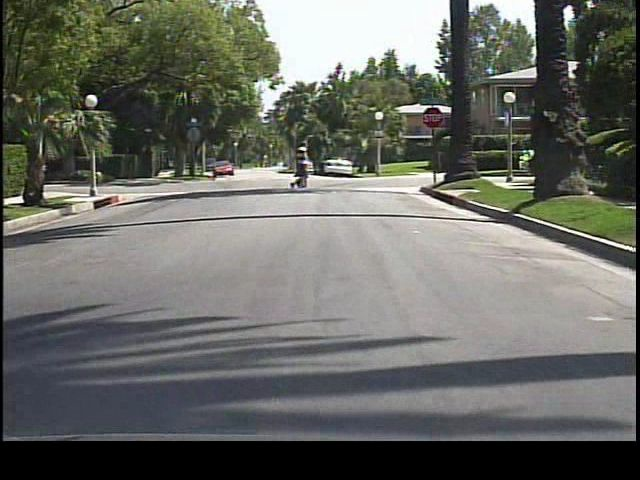person: (290, 141, 313, 191)
